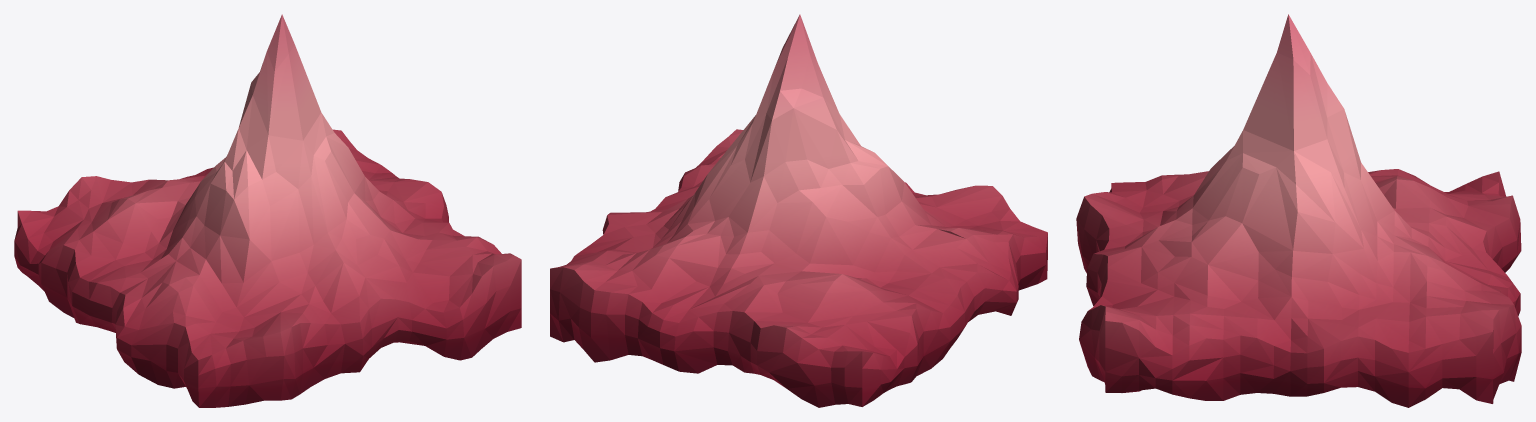
Rendered from Sunset_Mountain_002.FBX.
3 renders of one model, left to right at view 1: azimuth 30°, elevation 25°; view 2: azimuth 150°, elevation 25°; view 3: azimuth 270°, elevation 25°, orthographic. The views are drawn at different scales.
Visible parts, largest first — view 1: Sunset_Mountain_002; view 2: Sunset_Mountain_002; view 3: Sunset_Mountain_002.
Part boxes in pixels (bbox=[...]): Sunset_Mountain_002: bbox=[14, 14, 521, 407]; Sunset_Mountain_002: bbox=[550, 14, 1047, 407]; Sunset_Mountain_002: bbox=[1076, 14, 1521, 407].
Size of the model in its own units: 3685 by 2894 by 3612.
Materials: 1 (1 with a texture image).
